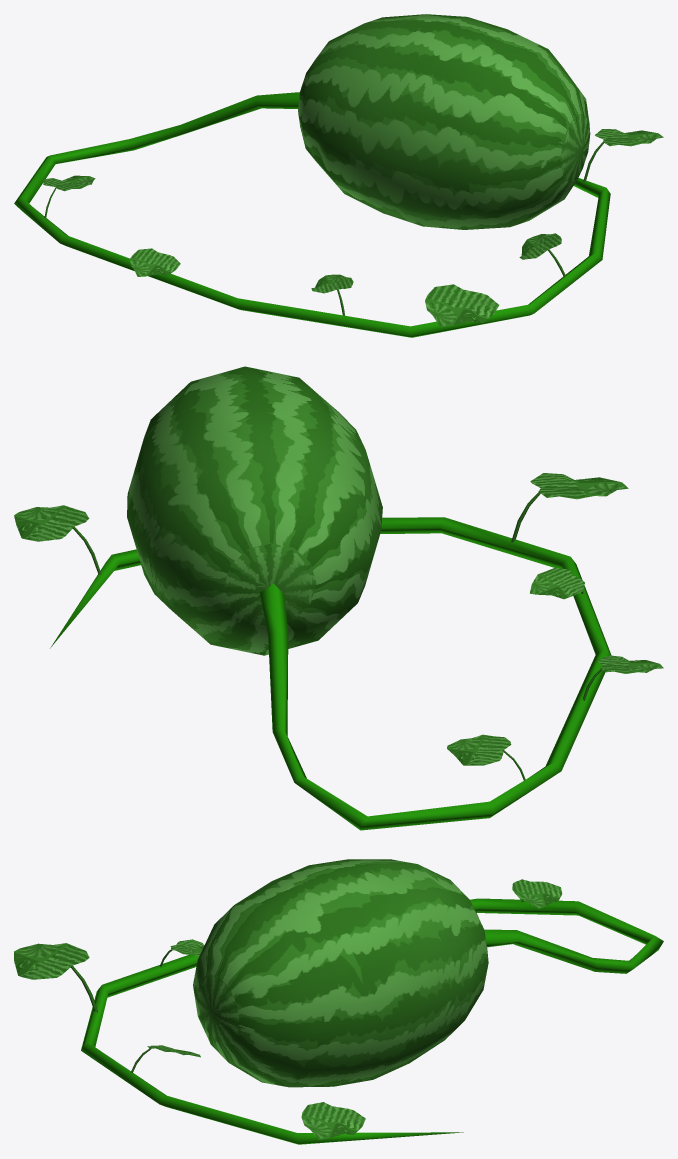
Rendered from Watermelon Stage 1.fbx.
3 views of the same model, one above another, from view 1: azimuth 30°, elevation 25°; view 2: azimuth 150°, elevation 25°; view 3: azimuth 270°, elevation 25° (orthographic). The views are drawn at different scales.
Parts seen in each view (by area): view 1: Watermelon_Full_Grown, Watermelon_Vine_Full_Grown, polySurface86, polySurface89, polySurface92, polySurface91, polySurface88, polySurface144; view 2: Watermelon_Full_Grown, Watermelon_Vine_Full_Grown, polySurface92, polySurface86, polySurface144, polySurface88, polySurface89; view 3: Watermelon_Full_Grown, Watermelon_Vine_Full_Grown, polySurface86, polySurface92, polySurface144, polySurface88.
Boxes of the visible parts, x1,y1,x2,y2 form: Watermelon_Full_Grown: (298, 14, 590, 229); Watermelon_Vine_Full_Grown: (14, 92, 610, 337); polySurface86: (425, 284, 499, 327); polySurface89: (130, 248, 180, 276); polySurface92: (583, 129, 663, 181); polySurface91: (519, 233, 565, 276); polySurface88: (311, 274, 353, 315); polySurface144: (43, 175, 95, 217); Watermelon_Full_Grown: (127, 366, 382, 655); Watermelon_Vine_Full_Grown: (50, 517, 611, 830); polySurface92: (14, 505, 101, 574); polySurface86: (511, 473, 628, 542); polySurface144: (447, 734, 525, 780); polySurface88: (529, 567, 584, 599); polySurface89: (583, 655, 663, 700); Watermelon_Full_Grown: (193, 859, 488, 1087); Watermelon_Vine_Full_Grown: (81, 898, 663, 1144); polySurface86: (14, 943, 97, 1012); polySurface92: (301, 1102, 365, 1139); polySurface144: (512, 879, 562, 908); polySurface88: (160, 939, 204, 966).
Bounding box in the file's own units: 0.3937 × 0.1382 × 0.3986.
Materials: 2 (1 with a texture image).
